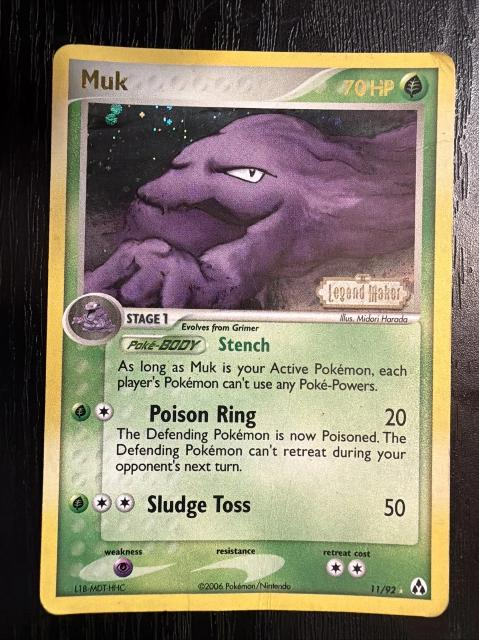Card: (39, 42, 459, 621)
Name: (75, 63, 137, 95)
